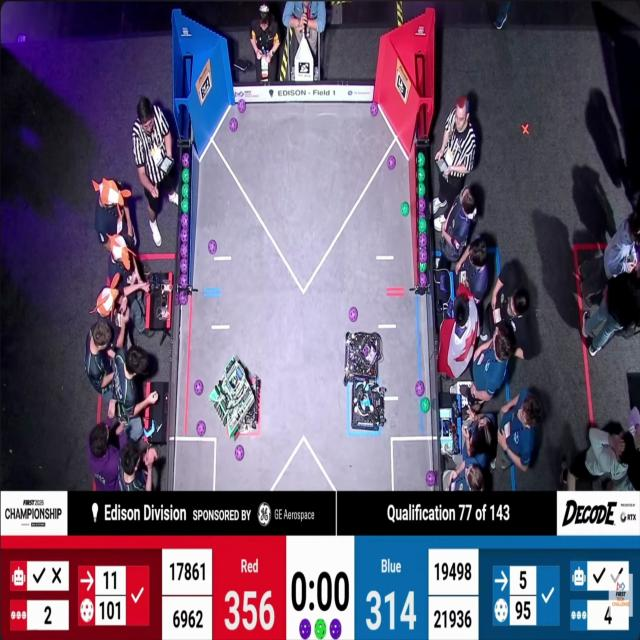artifact_green: (315, 619, 326, 639), (182, 152, 190, 168), (418, 182, 426, 198), (421, 398, 430, 412), (401, 202, 410, 216), (181, 198, 189, 213), (418, 152, 425, 167), (419, 218, 426, 233), (418, 167, 425, 182), (182, 169, 189, 183), (182, 184, 188, 198), (419, 263, 426, 272)
artifact_purple: (299, 619, 311, 639), (330, 619, 341, 639), (426, 470, 436, 487), (179, 258, 189, 274), (235, 445, 244, 461), (196, 421, 205, 437), (416, 381, 425, 397), (349, 307, 358, 322), (194, 380, 203, 395), (418, 233, 427, 248), (208, 240, 217, 254), (179, 291, 188, 305), (180, 214, 188, 229), (370, 103, 379, 116), (419, 273, 427, 287), (230, 118, 238, 132), (238, 99, 246, 113), (181, 243, 188, 258), (182, 153, 189, 168), (180, 274, 188, 287), (419, 249, 427, 262), (419, 198, 426, 212), (181, 229, 188, 243), (388, 156, 395, 169), (419, 212, 425, 219)
